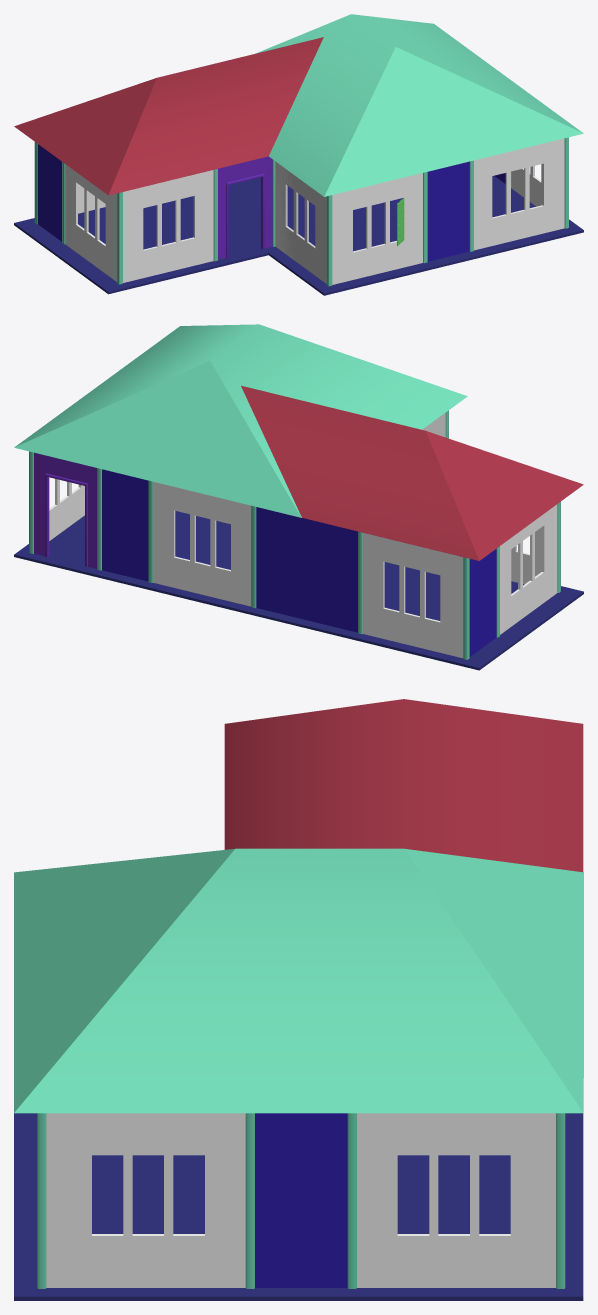
File: Abandoned House.fbx
The picture shows the model from 3 angles, top to bottom: view 1: azimuth 30°, elevation 25°; view 2: azimuth 150°, elevation 25°; view 3: azimuth 270°, elevation 25°; orthographic projection. The views are drawn at different scales.
Visible parts, largest first — view 1: Line002, Line001, Line003, Box051, Box050, Box001, Box035, Box053, Box003, Box005, Box047, Box056 (+7 smaller); view 2: Line002, Line001, Line003, Box045, Box052, Box054, Box049, Box053, Box062, Box047, Box057, Box051 (+6 smaller); view 3: Line002, Line001, Line003, Box055, Box057, Box048, Box058, Box061, Box065, Box066.
Part boxes in pixels (x1,y1,x2,y2): Line002: [256, 14, 583, 196]; Line001: [14, 37, 323, 195]; Line003: [14, 176, 583, 295]; Box051: [123, 170, 213, 282]; Box050: [474, 138, 564, 250]; Box001: [332, 173, 422, 284]; Box035: [427, 161, 469, 261]; Box053: [65, 164, 116, 281]; Box003: [275, 161, 326, 283]; Box005: [218, 156, 272, 259]; Box047: [37, 144, 61, 241]; Box056: [275, 162, 316, 276]; Line002: [14, 324, 467, 517]; Line001: [241, 385, 583, 560]; Line003: [14, 511, 583, 670]; Box045: [256, 507, 357, 632]; Box052: [362, 533, 463, 658]; Box054: [153, 482, 251, 606]; Box049: [102, 469, 148, 581]; Box053: [500, 504, 557, 634]; Box062: [34, 452, 96, 568]; Box047: [469, 549, 496, 656]; Box057: [49, 478, 84, 540]; Box051: [511, 527, 541, 584]; Line002: [14, 848, 583, 1113]; Line001: [224, 699, 583, 872]; Line003: [14, 1113, 583, 1300]; Box055: [46, 1113, 245, 1287]; Box057: [357, 1113, 555, 1287]; Box048: [255, 1113, 347, 1287]; Box058: [37, 1113, 46, 1288]; Box061: [556, 1113, 565, 1288]; Box065: [245, 1113, 254, 1288]; Box066: [347, 1113, 356, 1288].
Bounding box in the file's own units: 3915 × 2422 × 1555.
